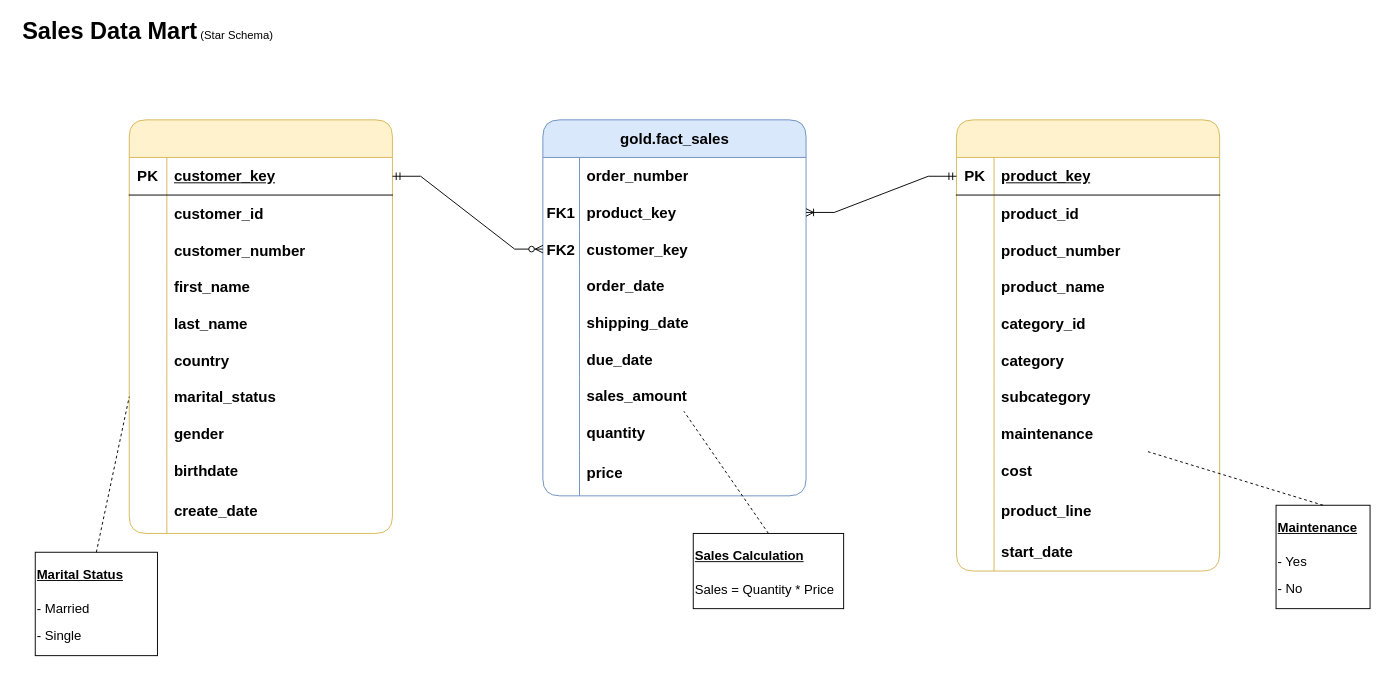
Image size: 1387x674. Some labels were removed from this diagram. Here are the shapes that lost their labels. From the top down, the box of each, then its label:
(128, 119, 392, 533): gold.dim_customers
(956, 119, 1220, 571): gold.dim_products
